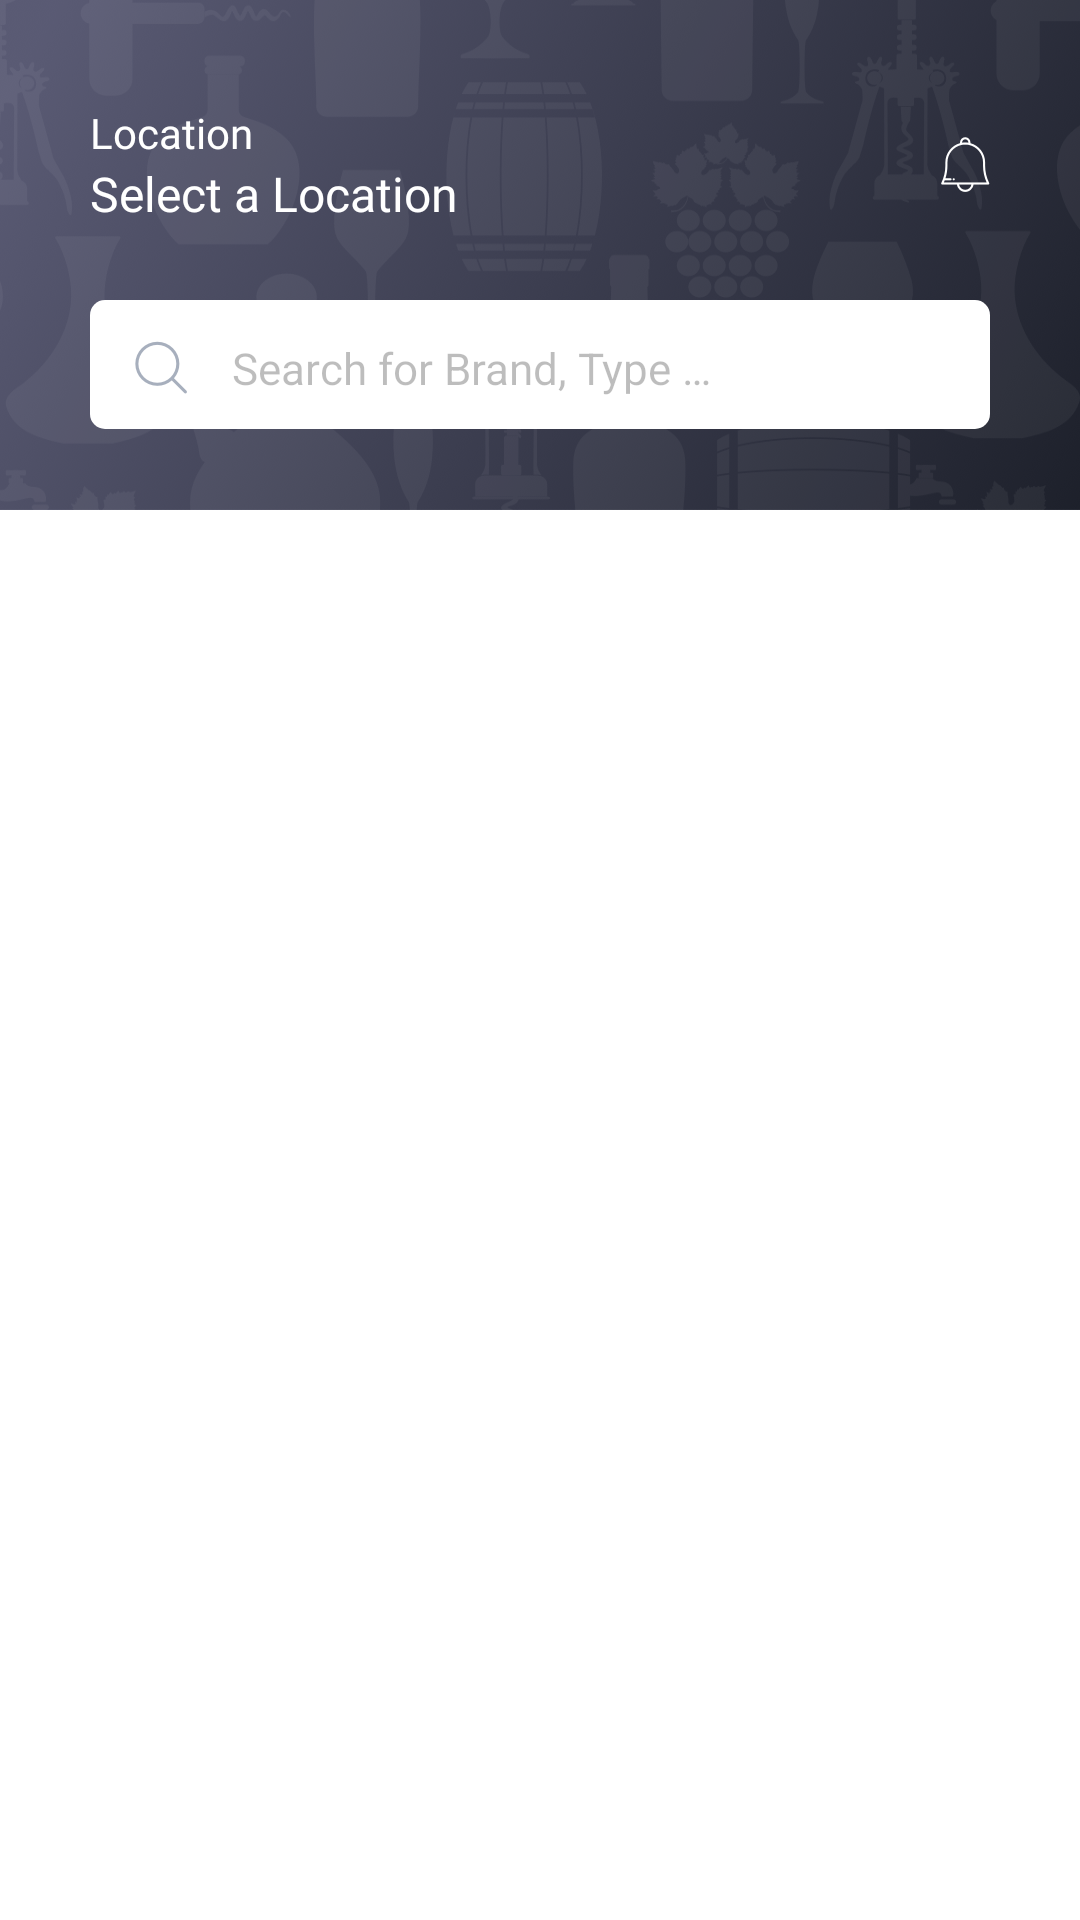

Icons on this 1080w x 1920h Android screen, each with its box as (x1, y1, x2, y2):
notification: (941, 137, 990, 192)
